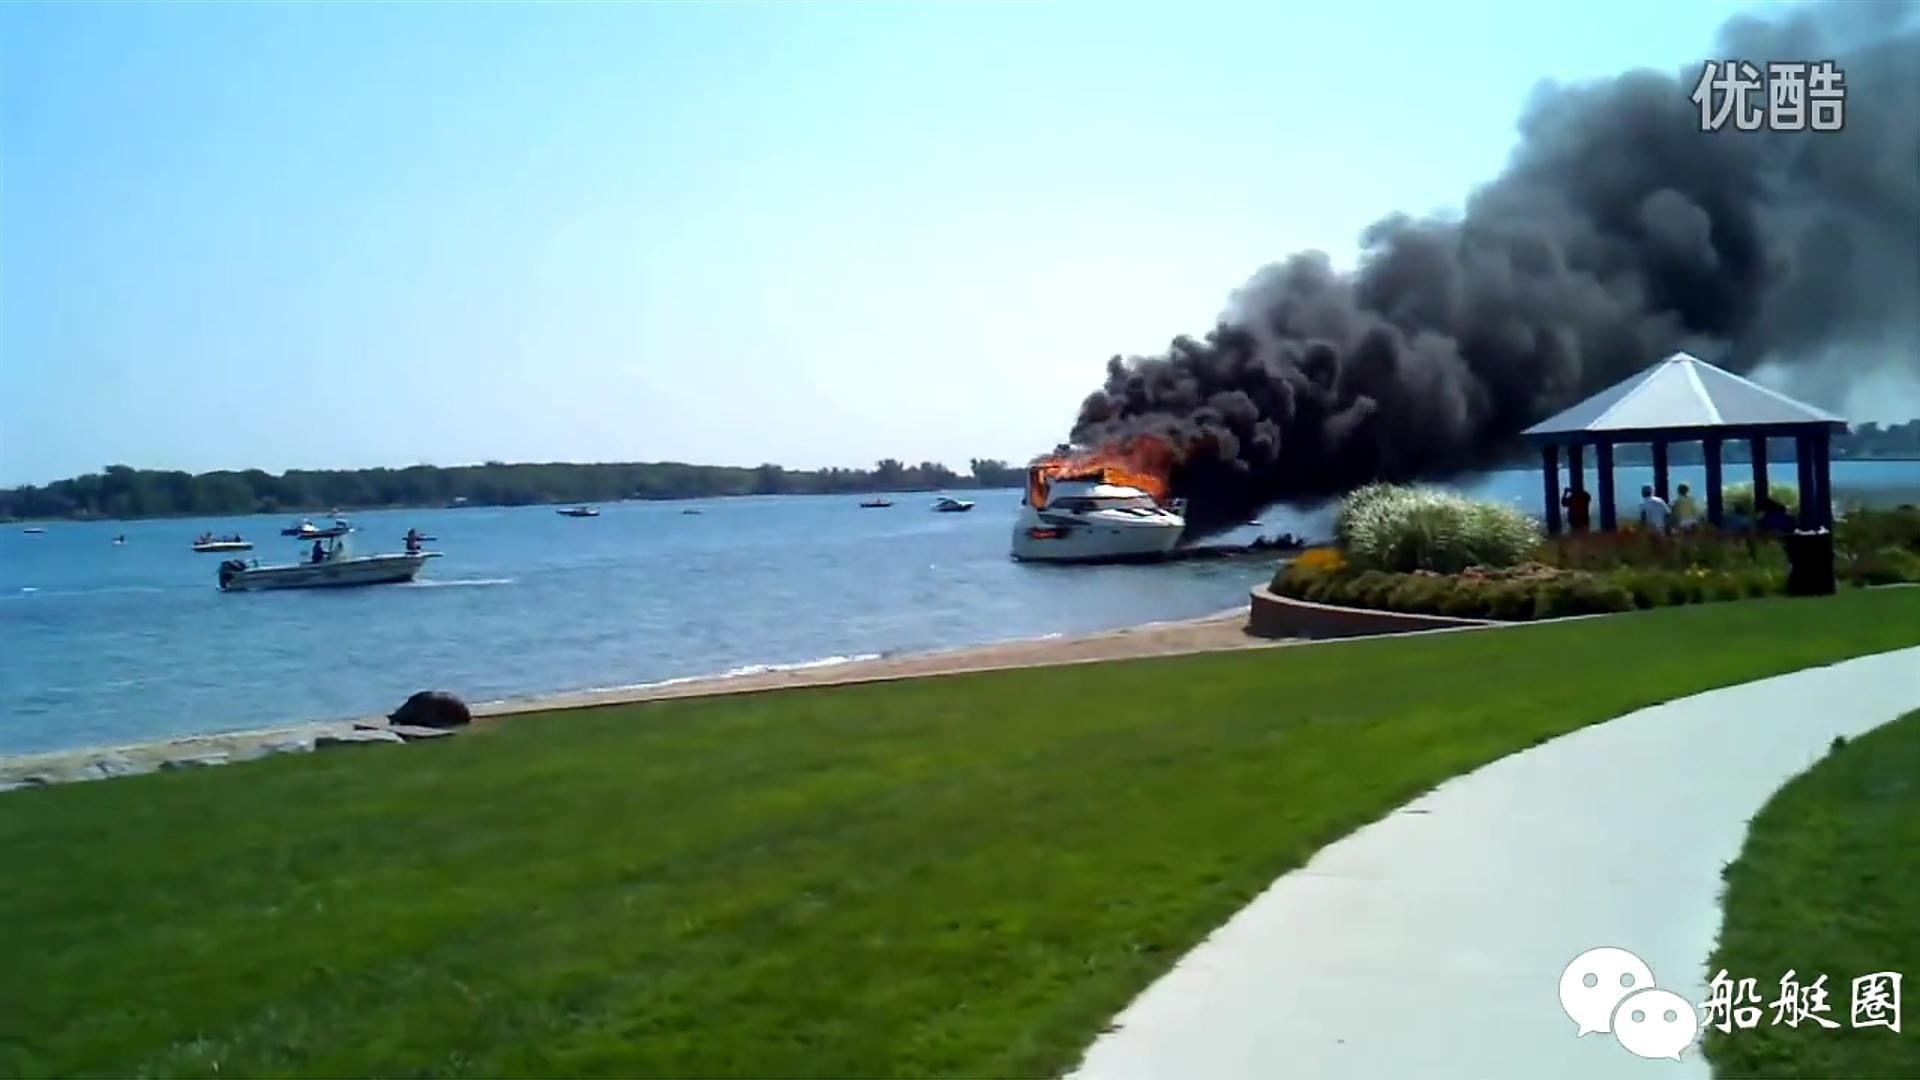fire: (1034, 454, 1174, 500)
